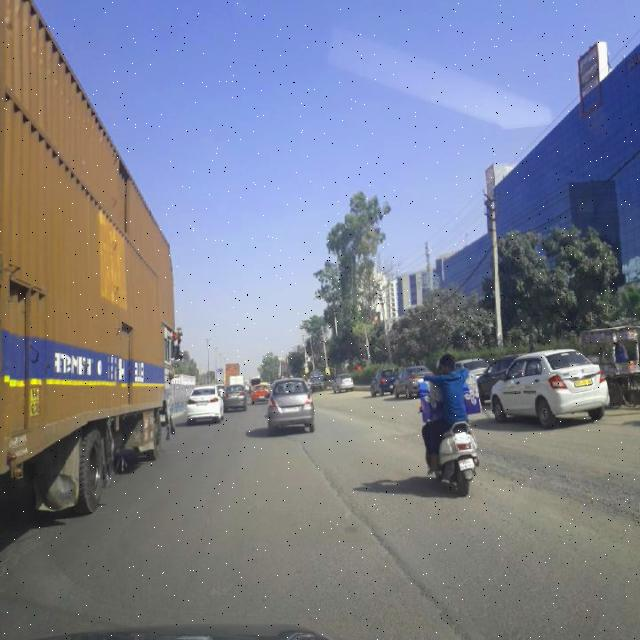D01: (293, 441, 447, 611)
